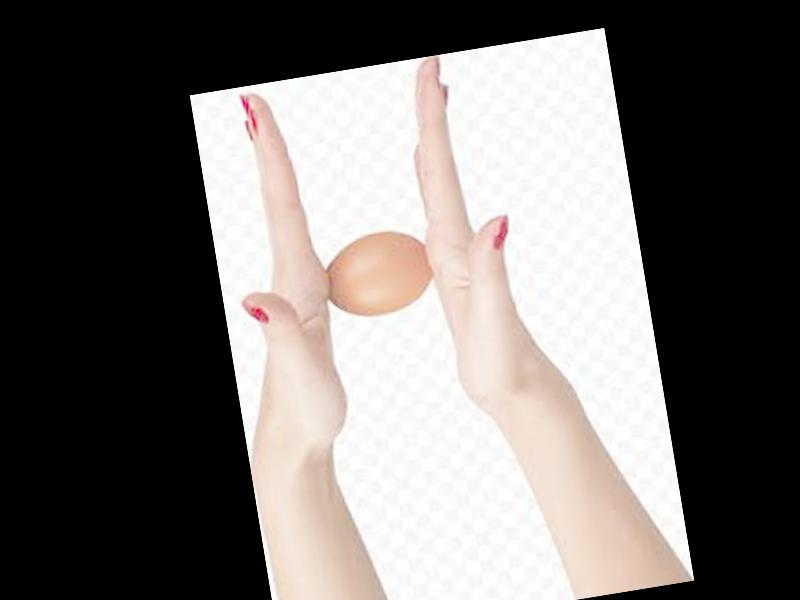Eggs: (321, 227, 438, 322)
